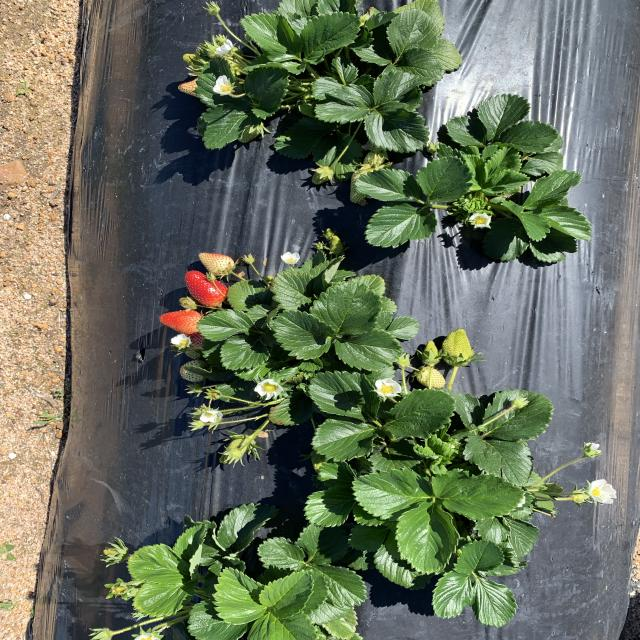unripe: (183, 270, 231, 307), (160, 311, 207, 334)
